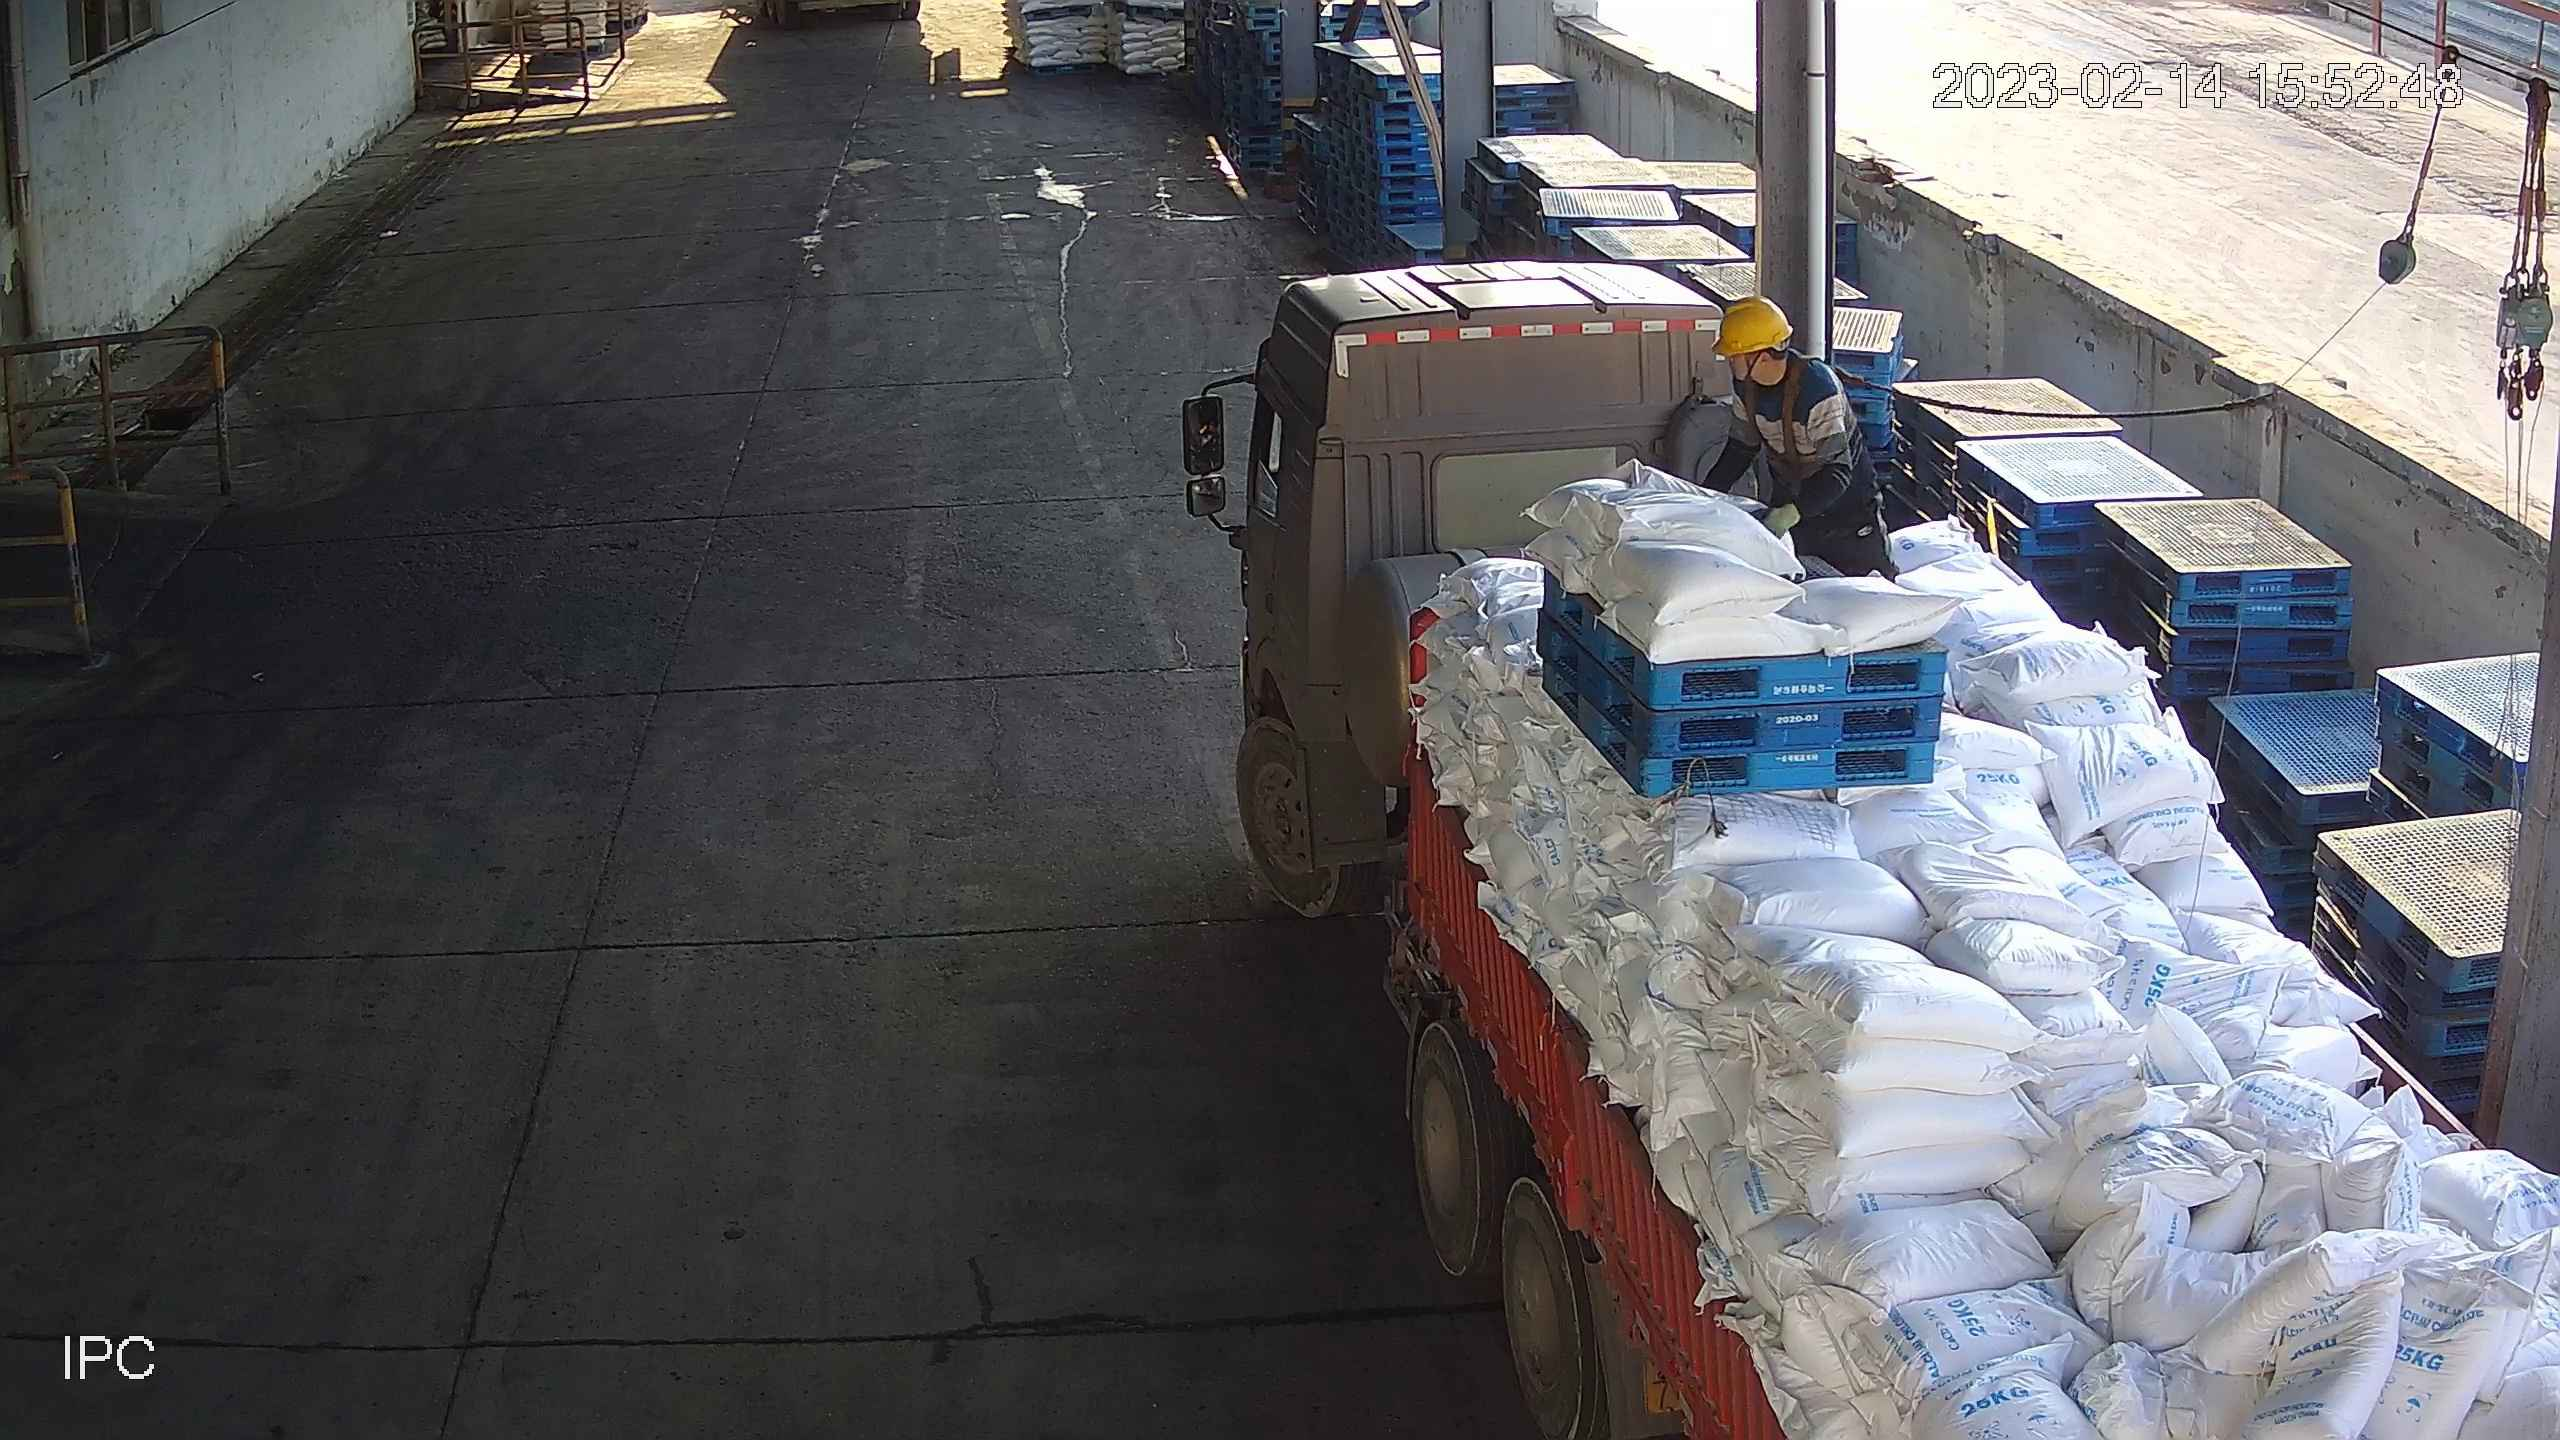belt: (1711, 364, 1886, 463)
head: (1706, 294, 1840, 440)
helmet: (1710, 300, 1791, 361)
people: (1703, 293, 1908, 586)
truck: (1178, 261, 2560, 1440)
